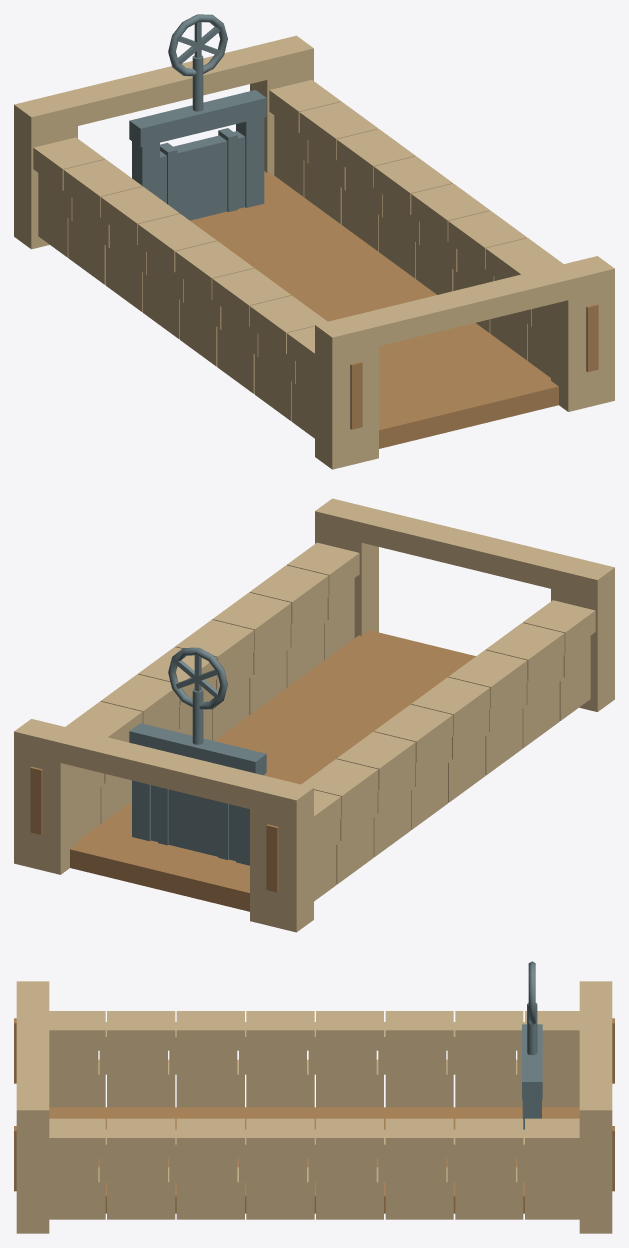
File: Irrigation-Canal.glb
The picture shows the model from 3 angles, top to bottom: view 1: azimuth 30°, elevation 25°; view 2: azimuth 150°, elevation 25°; view 3: azimuth 270°, elevation 25°; orthographic projection. The views are drawn at different scales.
Visible parts, largest first — view 1: hand-pump-static-irrigation-canal-warm-masonry-mat, hand-pump-static-irrigation-canal-dry-channel-mat, hand-pump-static-irrigation-canal-dark-gate-iron-mat; view 2: hand-pump-static-irrigation-canal-warm-masonry-mat, hand-pump-static-irrigation-canal-dry-channel-mat, hand-pump-static-irrigation-canal-dark-gate-iron-mat; view 3: hand-pump-static-irrigation-canal-warm-masonry-mat, hand-pump-static-irrigation-canal-dry-channel-mat, hand-pump-static-irrigation-canal-dark-gate-iron-mat.
Boxes of the visible parts, x1,y1,x2,y2 form: hand-pump-static-irrigation-canal-warm-masonry-mat: (14,35,614,469); hand-pump-static-irrigation-canal-dry-channel-mat: (190,171,598,448); hand-pump-static-irrigation-canal-dark-gate-iron-mat: (129,14,266,220); hand-pump-static-irrigation-canal-warm-masonry-mat: (14,498,614,932); hand-pump-static-irrigation-canal-dry-channel-mat: (30,630,475,911); hand-pump-static-irrigation-canal-dark-gate-iron-mat: (129,647,266,865); hand-pump-static-irrigation-canal-warm-masonry-mat: (16,981,612,1233); hand-pump-static-irrigation-canal-dry-channel-mat: (14,1018,614,1213); hand-pump-static-irrigation-canal-dark-gate-iron-mat: (522,961,542,1129).
Bounding box in the file's own units: 2.06 × 1.53 × 4.06.
